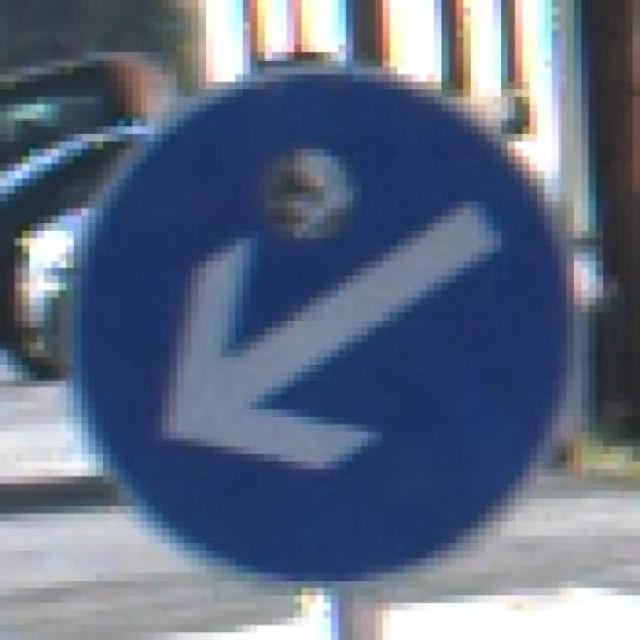Keep-Left: (58, 67, 590, 581)
